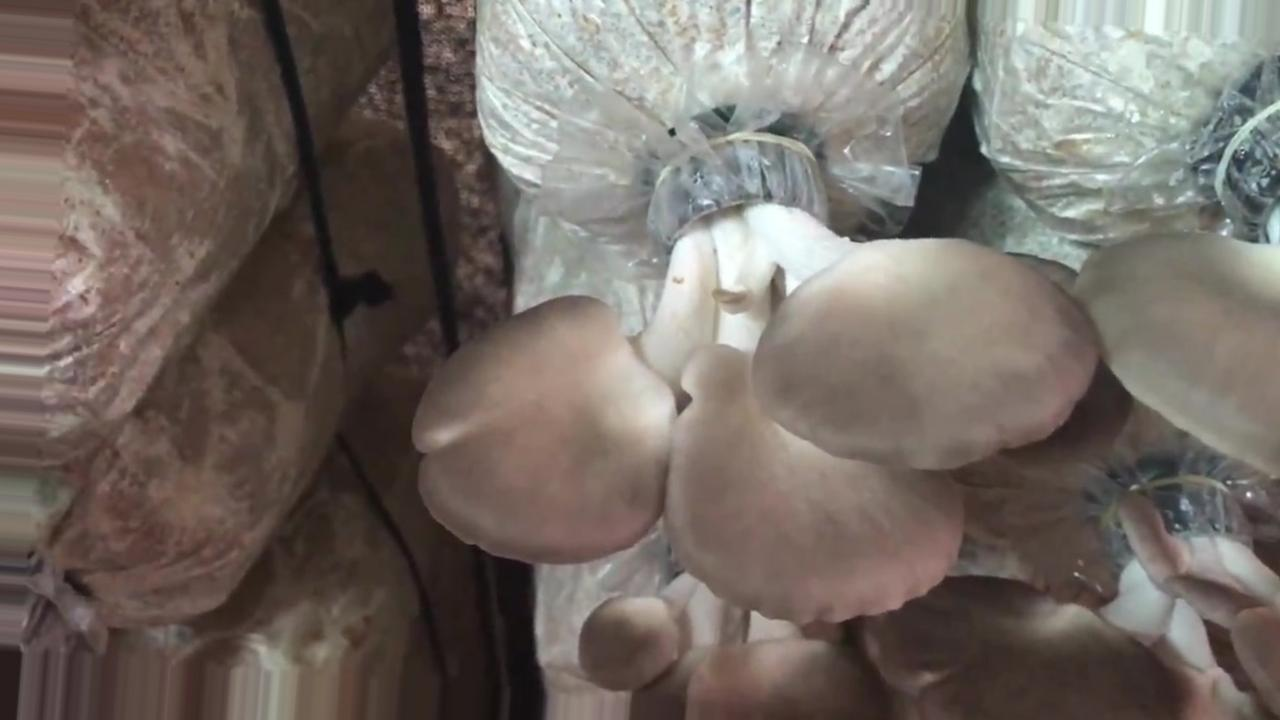nam: (414, 135, 1099, 624), (867, 477, 1280, 719), (1078, 113, 1280, 476), (578, 568, 885, 720)
